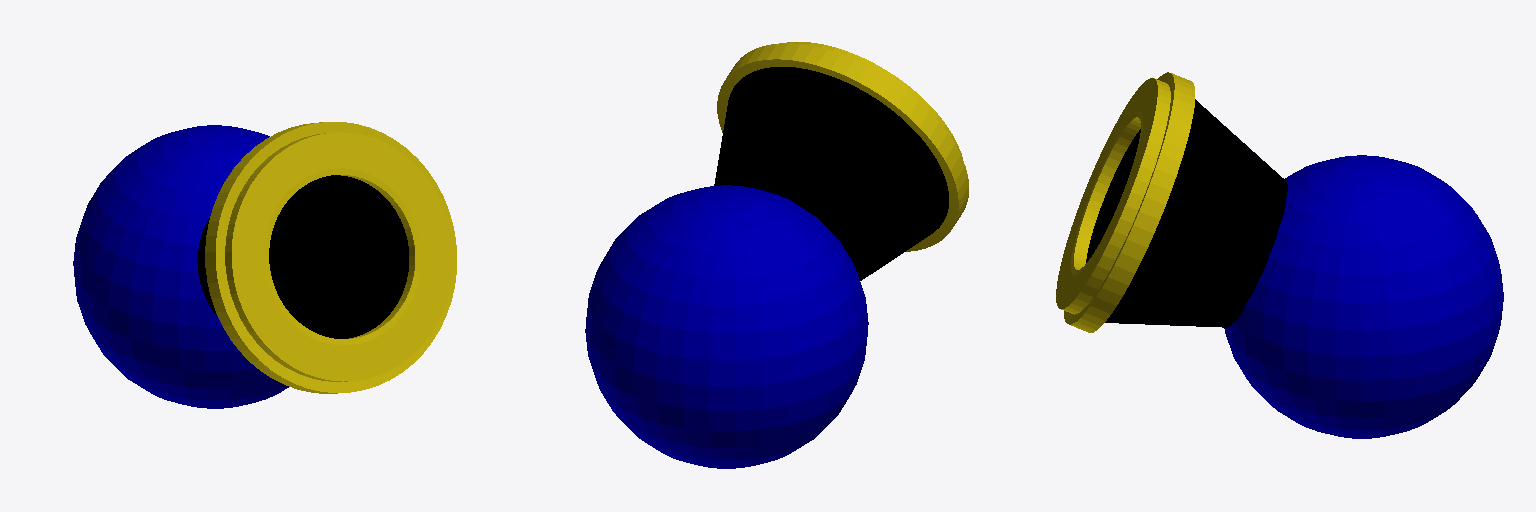
File: Cannon.obj
The picture shows the model from 3 angles: view 1: azimuth 30°, elevation 25°; view 2: azimuth 150°, elevation 25°; view 3: azimuth 270°, elevation 25°; orthographic projection.
Parts seen in each view (by area): view 1: 球; view 2: 球; view 3: 球.
Boxes of the visible parts, x1,y1,x2,y2 form: 球: [73, 122, 456, 408]; 球: [585, 42, 968, 468]; 球: [1056, 72, 1503, 438].
Size of the model in its own units: 7.95 by 10.49 by 12.54.